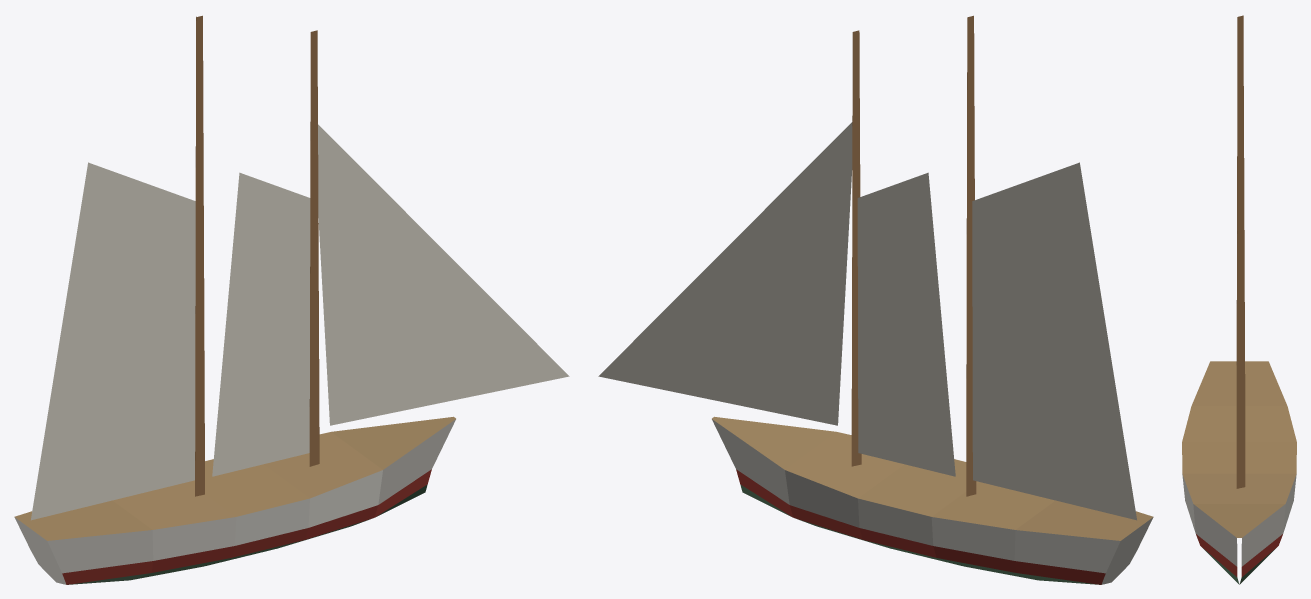
Rendered from hull_usd_schooner_large_lod.glb.
3 views of the same model, side by side, from view 1: azimuth 30°, elevation 25°; view 2: azimuth 150°, elevation 25°; view 3: azimuth 270°, elevation 25° (orthographic). The views are drawn at different scales.
Visible parts, largest first — view 1: lod; view 2: lod; view 3: lod.
Part boxes in pixels (<box>): lod: <box>14,15,569,584</box>; lod: <box>598,15,1153,584</box>; lod: <box>1182,15,1296,584</box>.
Size of the model in its own units: 22.86 by 22.38 by 4.76.
